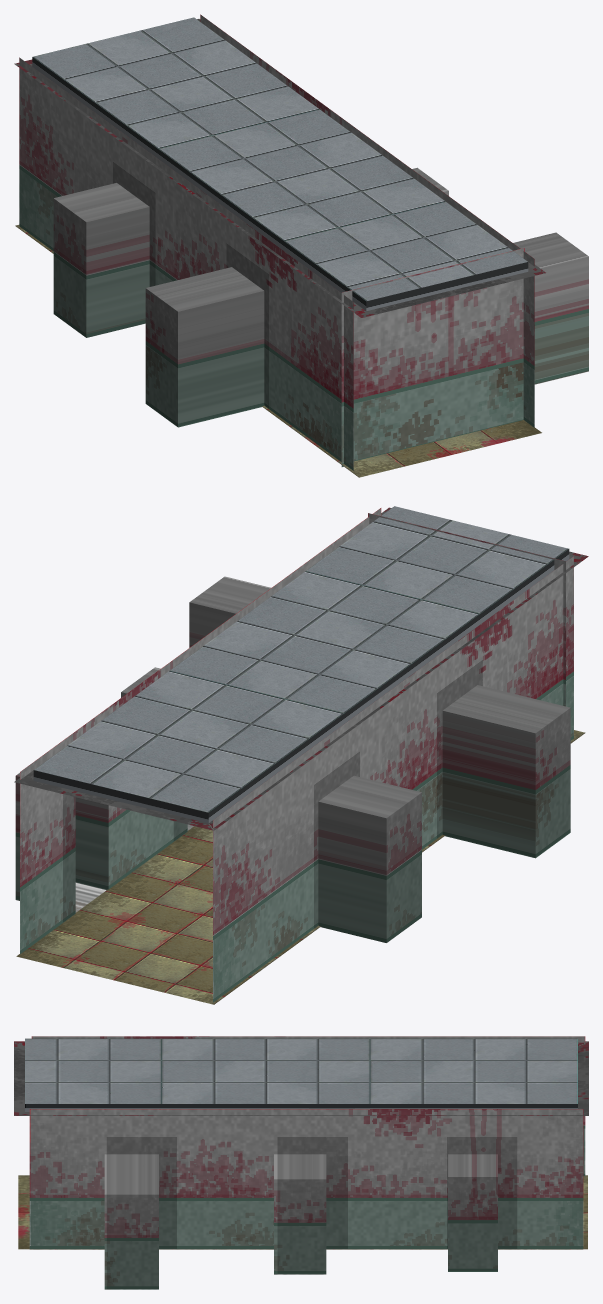
The model's file is HallwayFixed.FBX.
3 views of the same model, one above another, from view 1: azimuth 30°, elevation 25°; view 2: azimuth 150°, elevation 25°; view 3: azimuth 270°, elevation 25° (orthographic). The views are drawn at different scales.
Visible parts, largest first — view 1: Hallway; view 2: Hallway; view 3: Hallway.
Part boxes in pixels (<box>): Hallway: <box>14,14,588,477</box>; Hallway: <box>14,506,588,1004</box>; Hallway: <box>14,1036,588,1289</box>.
Bounding box in the file's own units: 85.71 × 39.15 × 141.
Materials: 1 (1 with a texture image).
